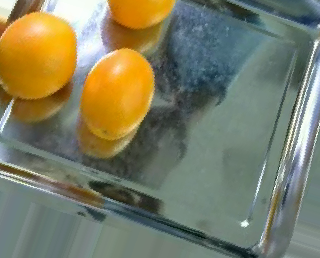Orange: (80, 46, 156, 139), (1, 10, 78, 99)
